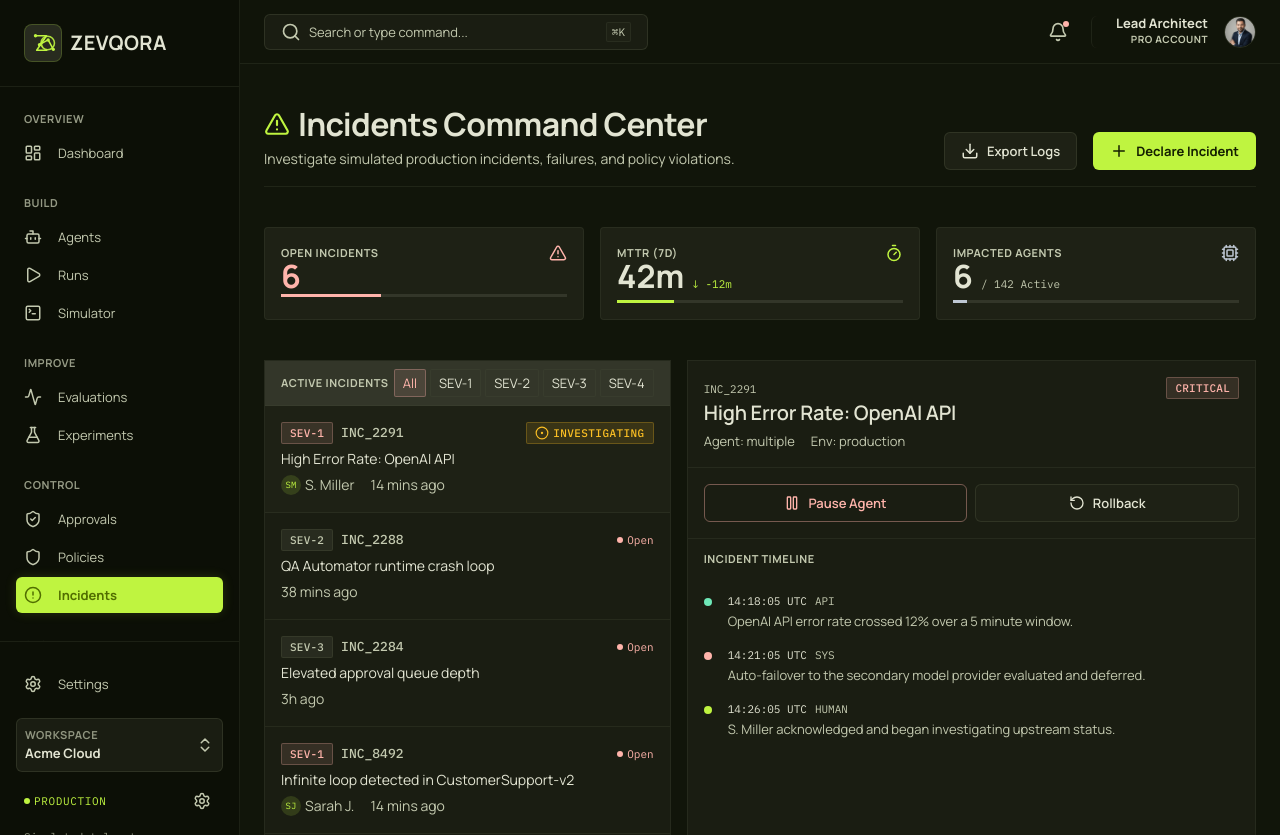
Test case: Incidents › pausing an agent asks for confirmation before applying
The width and height of the screenshot is (1280, 835).
Expected: the text "Infinite loop detected in CustomerSupport-v2" is shown, left=281, top=770, right=574, bottom=789
Click the button "Pause Agent". click: (836,503)
box: left=704, top=484, right=967, bottom=522
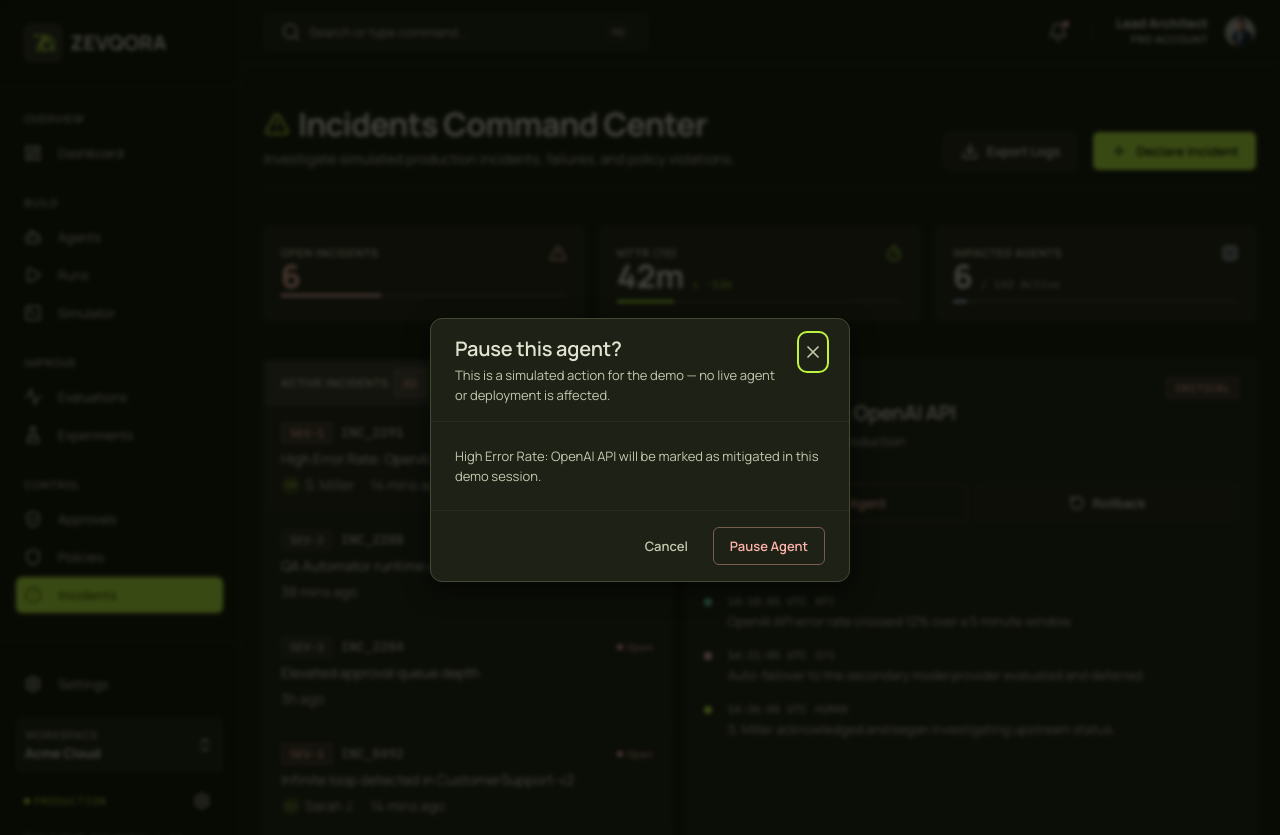
Now the heading "Pause this agent?" is shown, box left=455, top=335, right=622, bottom=362
Click the button "Pause Agent". click: (769,546)
box: left=713, top=527, right=825, bottom=565
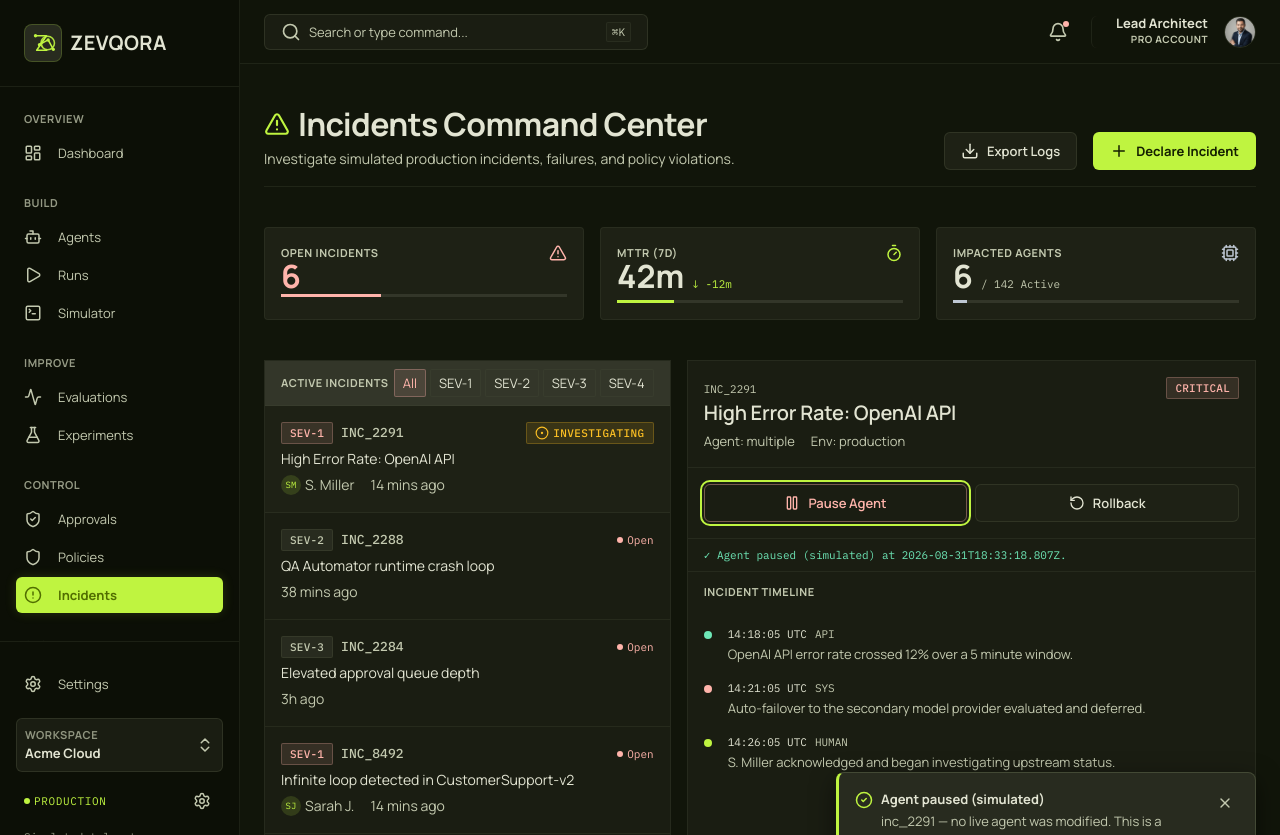
Now the dialog is gone
